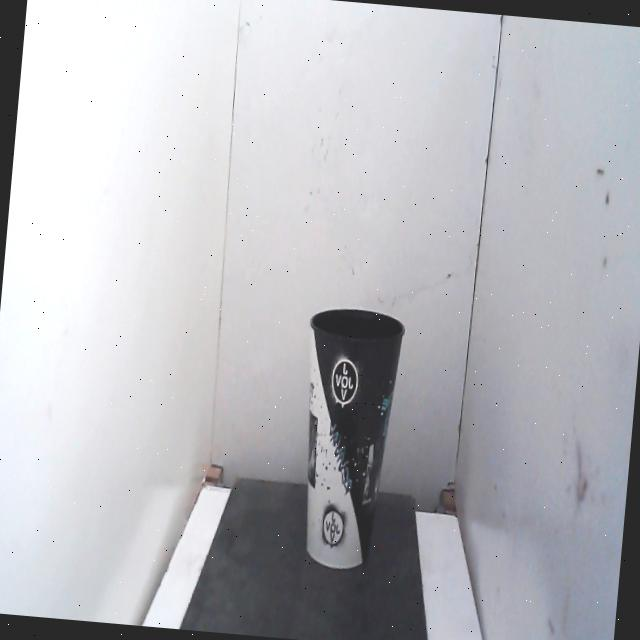plastico: (283, 292, 412, 582)
